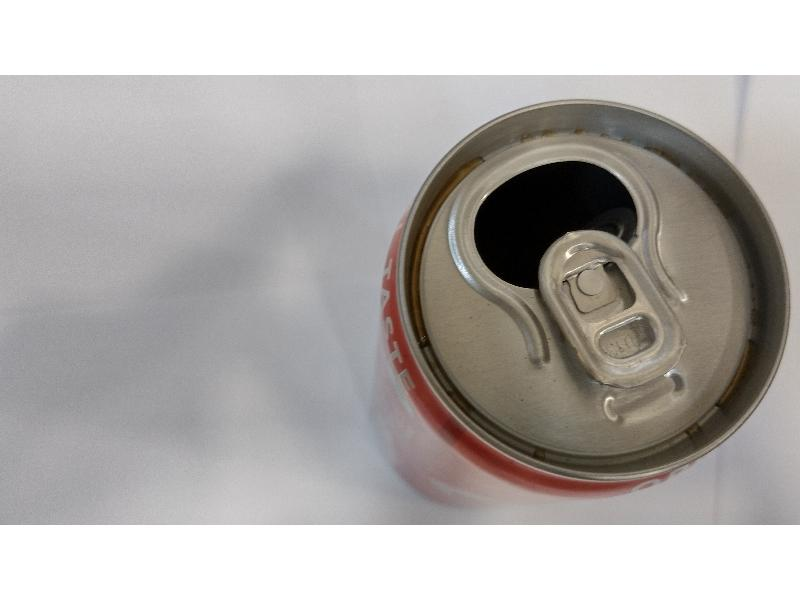can: (373, 93, 795, 519)
